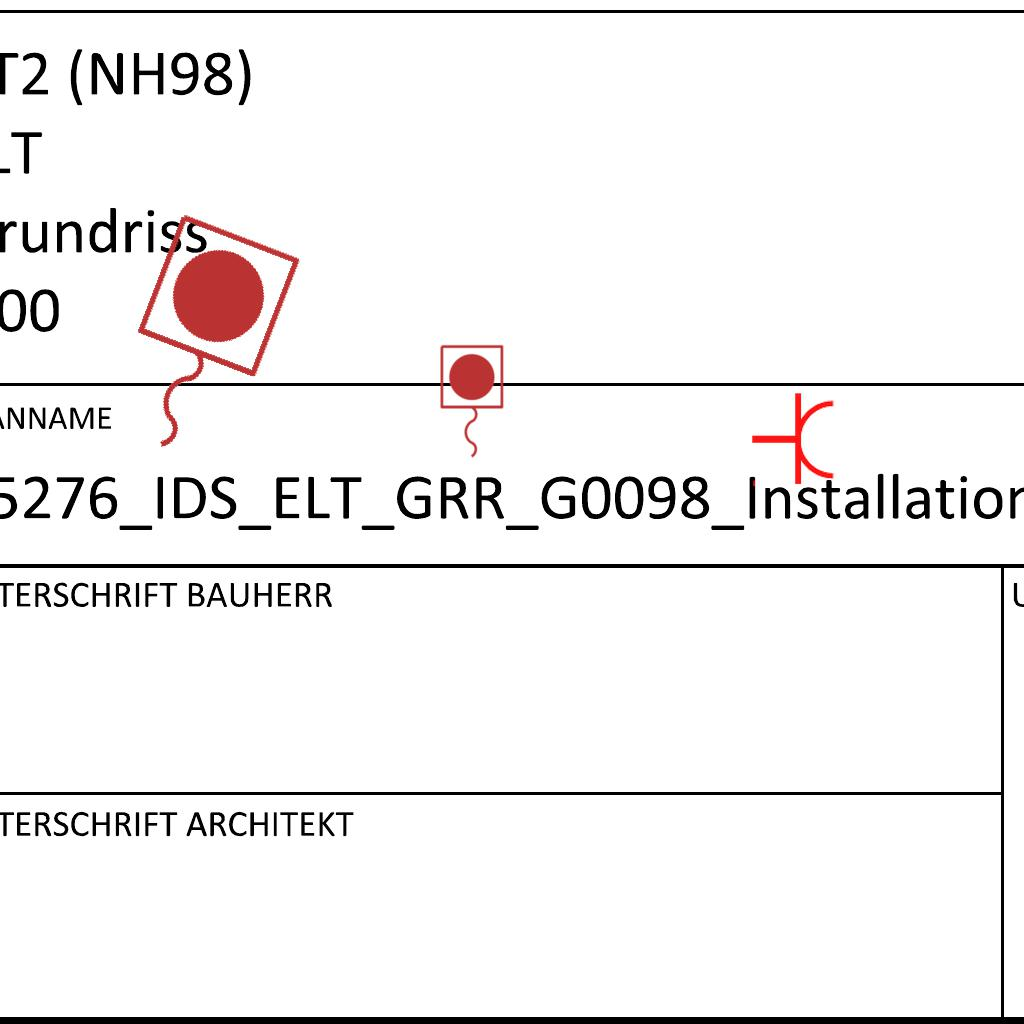Schukosteckdose_einfach: (750, 391, 837, 491)
Zugtaster: (88, 202, 310, 482), (435, 341, 507, 463)
